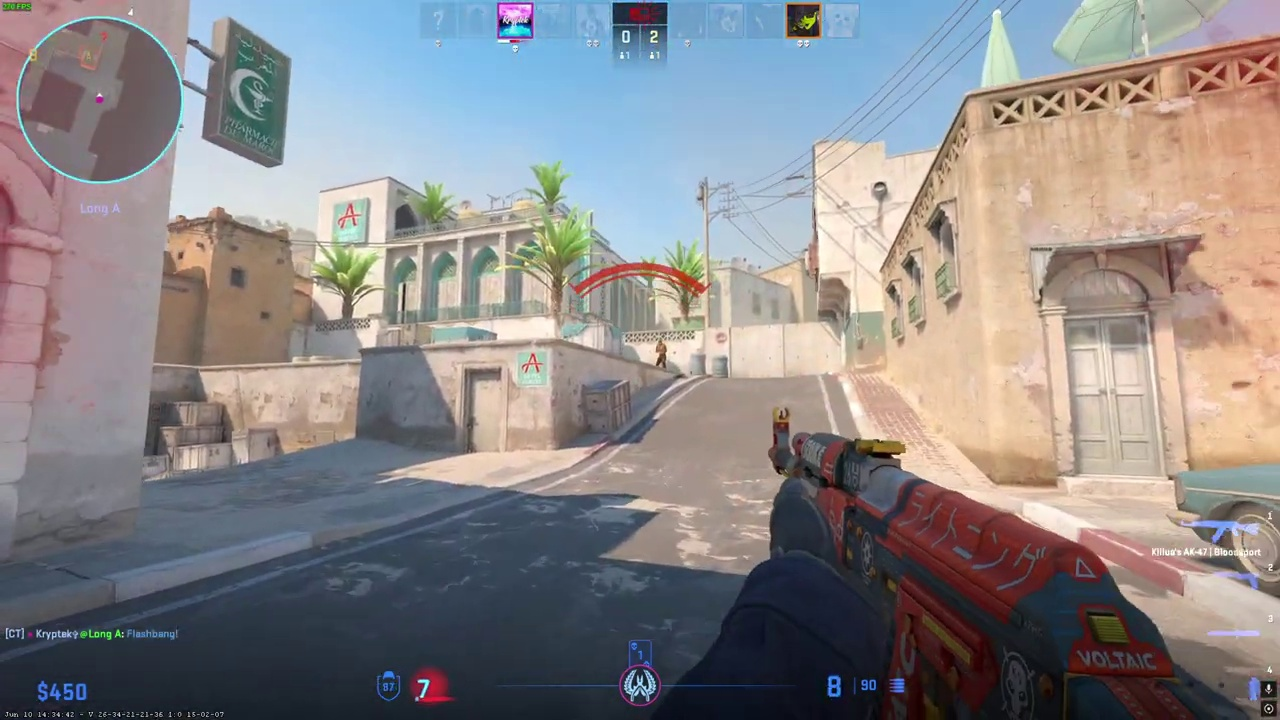Terrorist: (656, 339, 667, 369)
